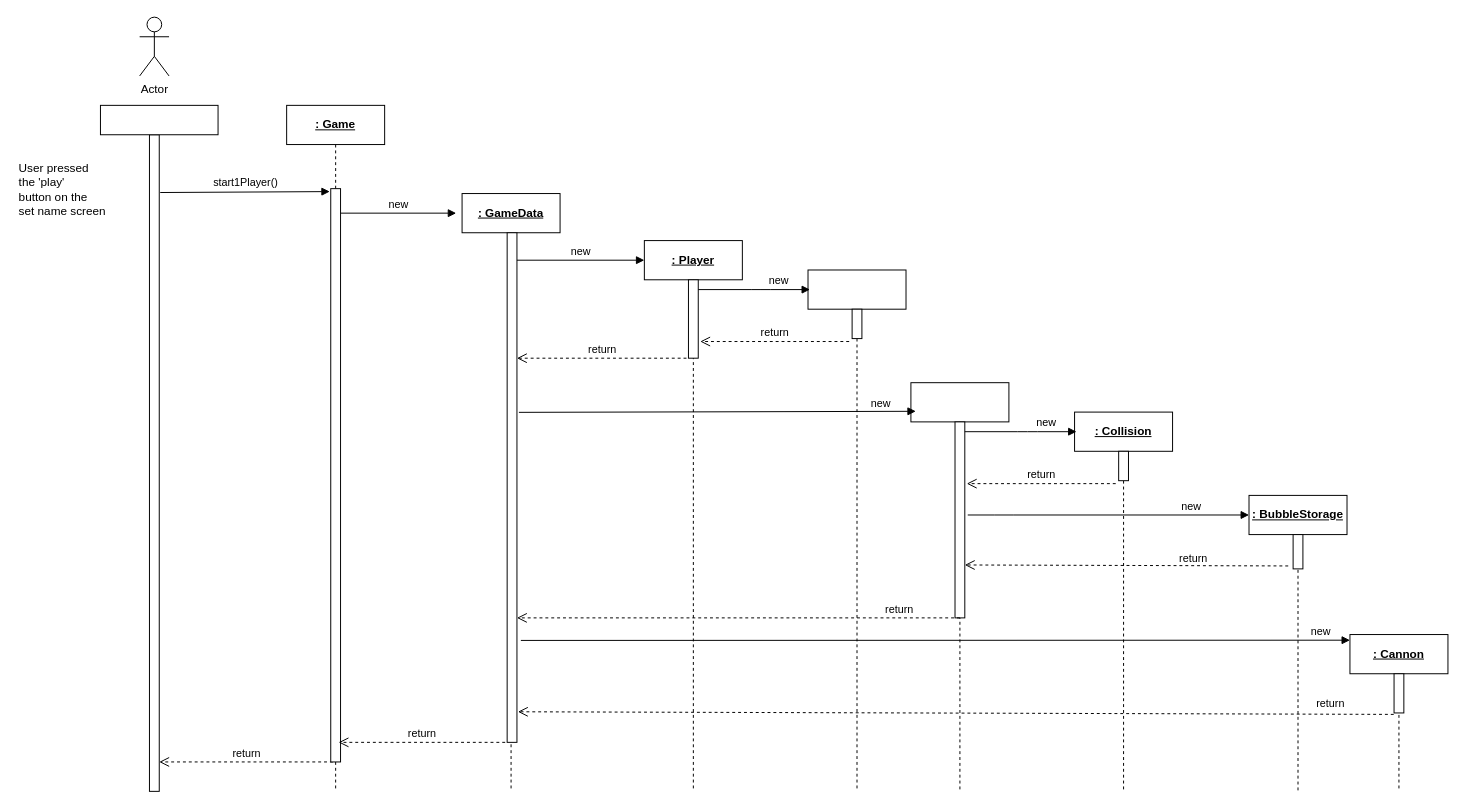
Some shapes in this 1465 by 809 pixel diagram are drawn without their labels. Here are the shapes that lost their labels. From the top down, the box of each, then its label:
(99, 104, 218, 135): : SetNameScreen
(807, 269, 906, 791): : Score
(910, 382, 1009, 791): : Arena
